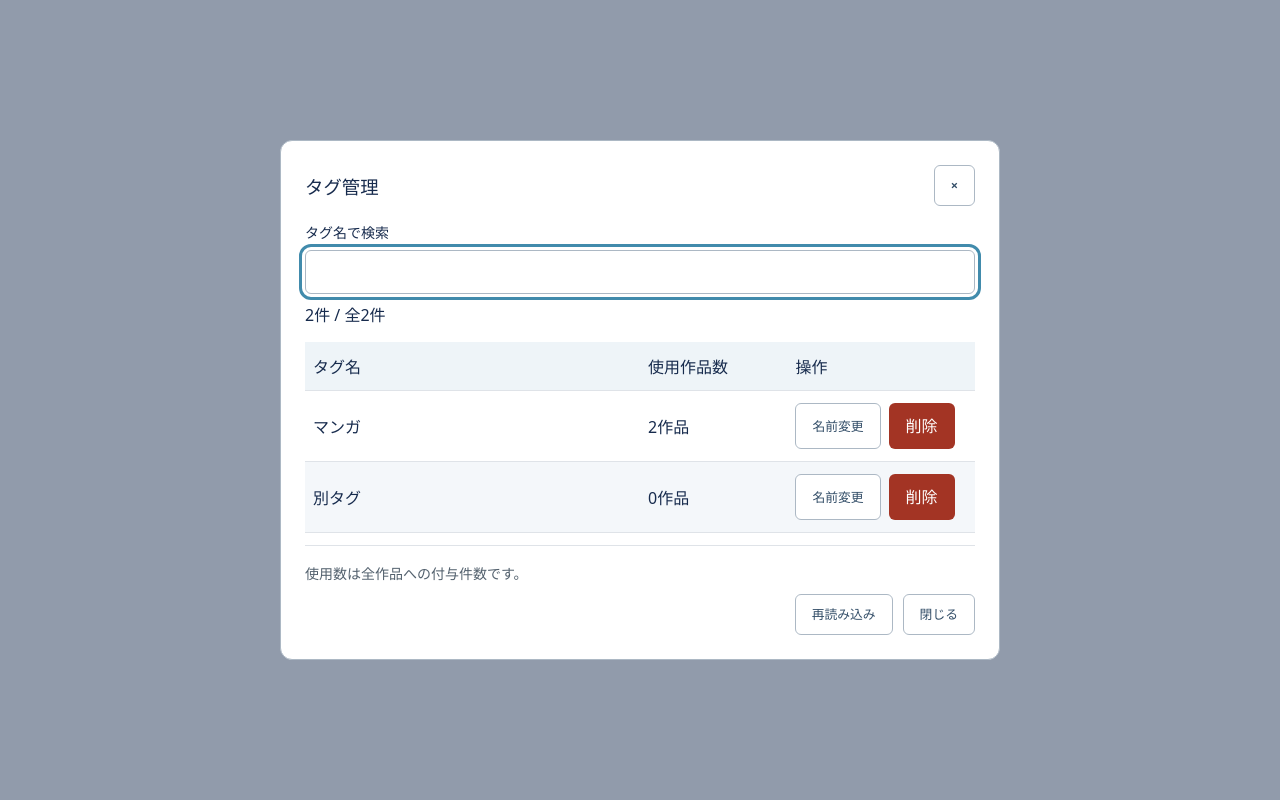
最後のタグがなくなっても入力を隠さず、再作成や再送しない
Click the button with aria-label "「マンガ」の名前変更" at {"x": 838, "y": 426}, box [795,403,881,449]
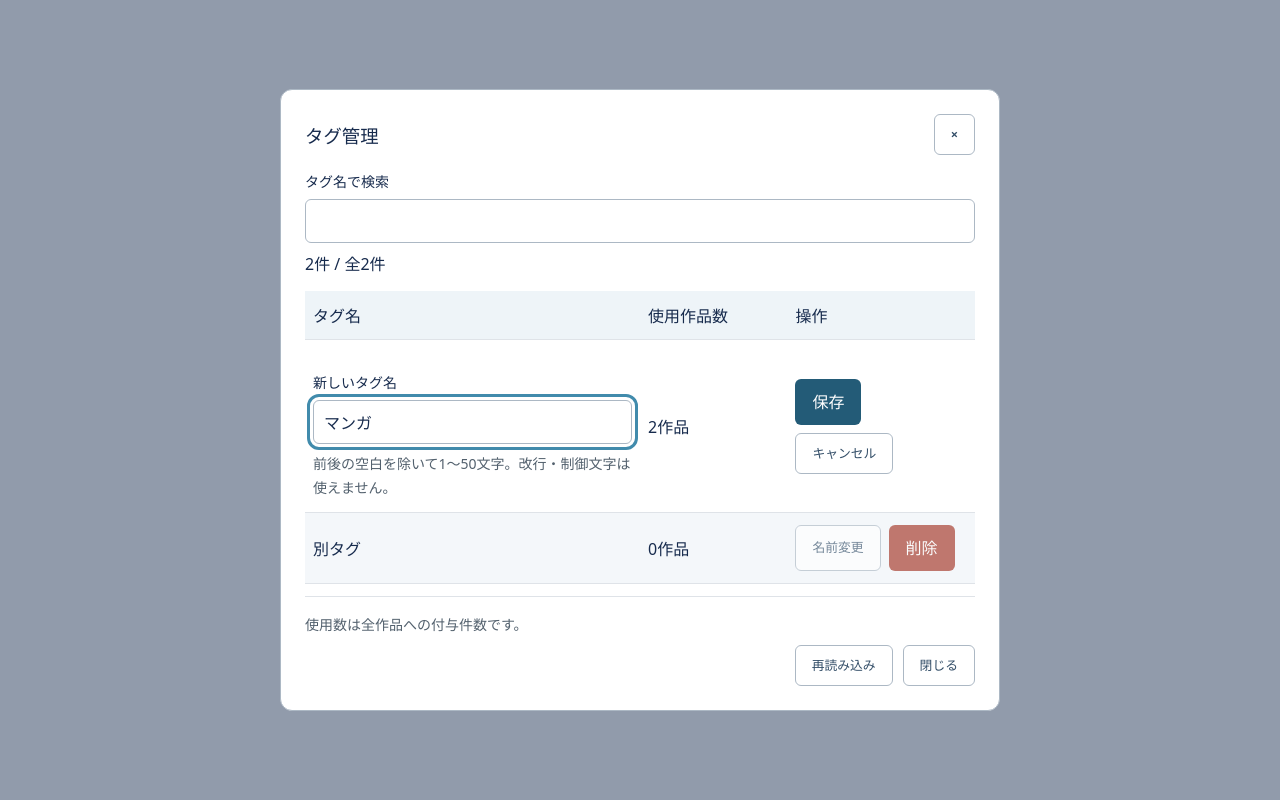
Replace the text in the field labelled "新しいタグ名" with "残す入力" at {"x": 472, "y": 422}, box [313,400,632,444]
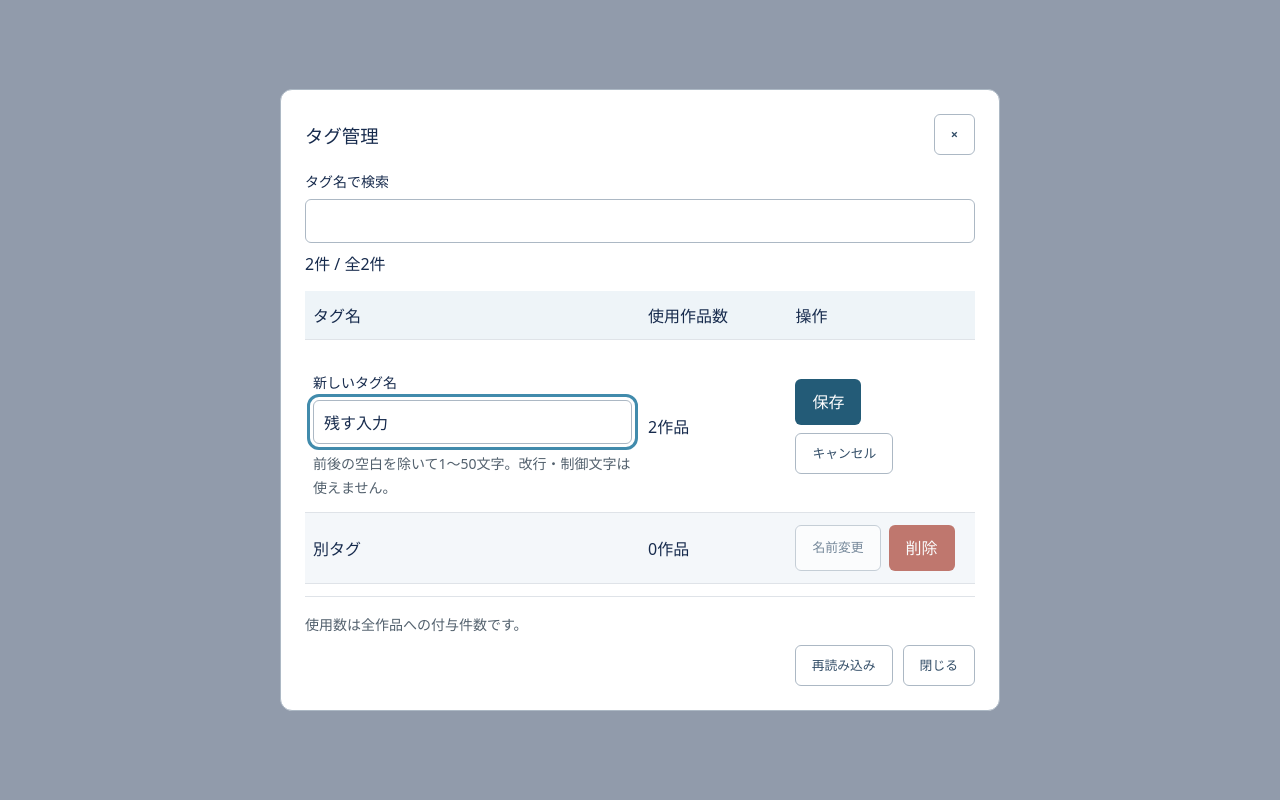
Click the button "保存" at {"x": 828, "y": 402}, box [795,378,861,424]
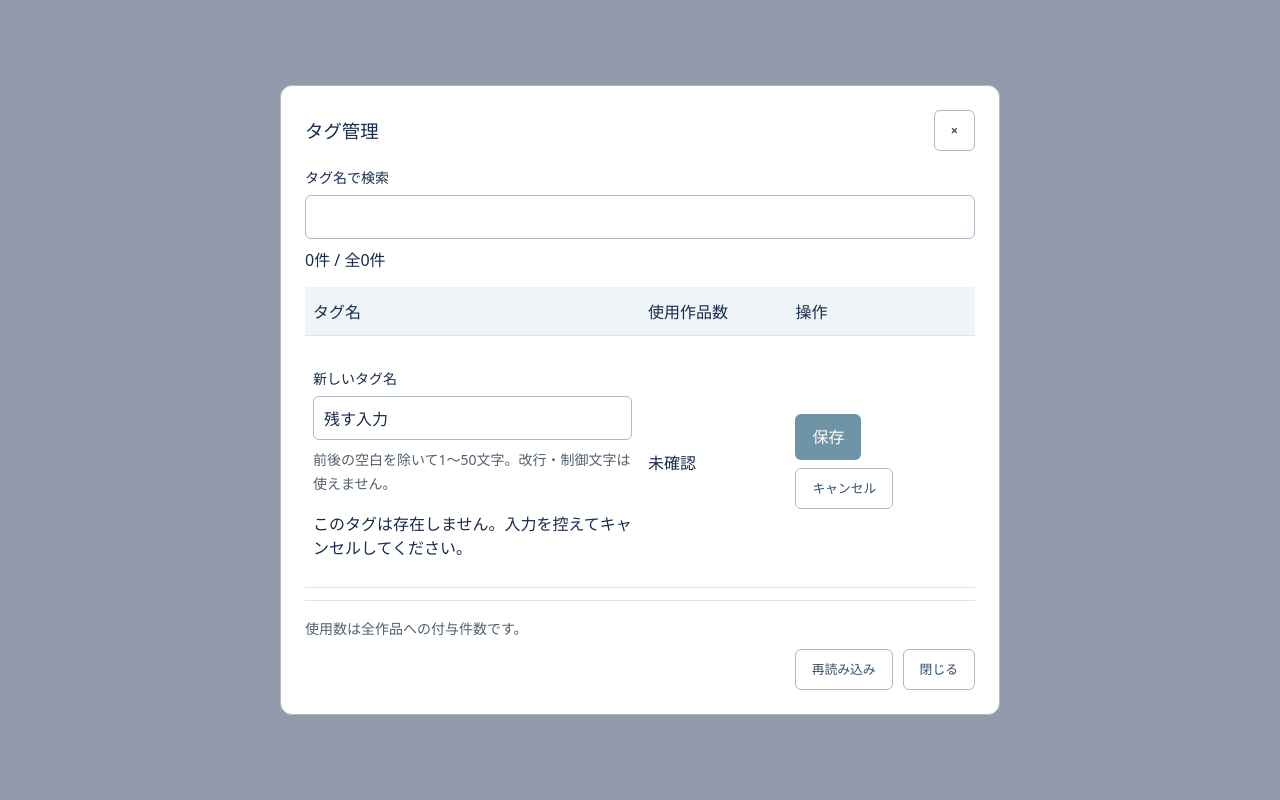
Expected: the text "このタグは存在しません。入力を控えてキャンセルしてください。" is shown, [313,511,632,559]
Expected: the button "保存" is disabled, [795,414,861,460]
